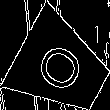O_SE: (31, 36, 92, 98)
